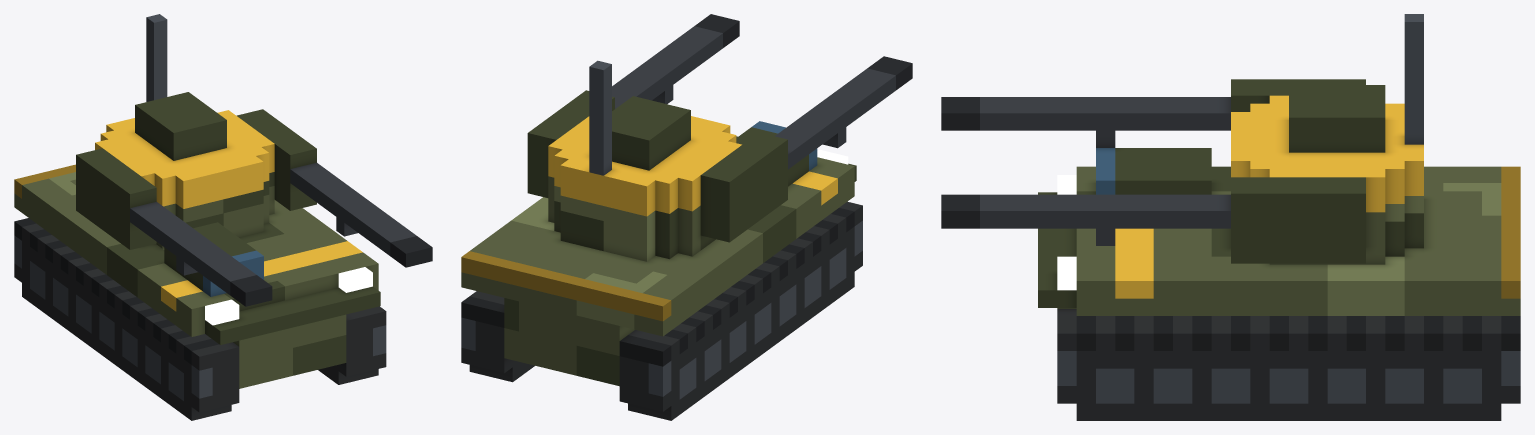
3 renders of one model, left to right at view 1: azimuth 30°, elevation 25°; view 2: azimuth 150°, elevation 25°; view 3: azimuth 270°, elevation 25°, orthographic. The views are drawn at different scales.
Parts seen in each view (by area): view 1: cm_aa_2_body; view 2: cm_aa_2_body; view 3: cm_aa_2_body.
Boxes of the visible parts, <box> form: cm_aa_2_body: <box>14,14,432,420</box>; cm_aa_2_body: <box>461,14,912,420</box>; cm_aa_2_body: <box>941,14,1520,420</box>.
Bounding box in the file's own units: 0.875 × 1.25 × 1.88.
Materials: 1 (1 with a texture image).
